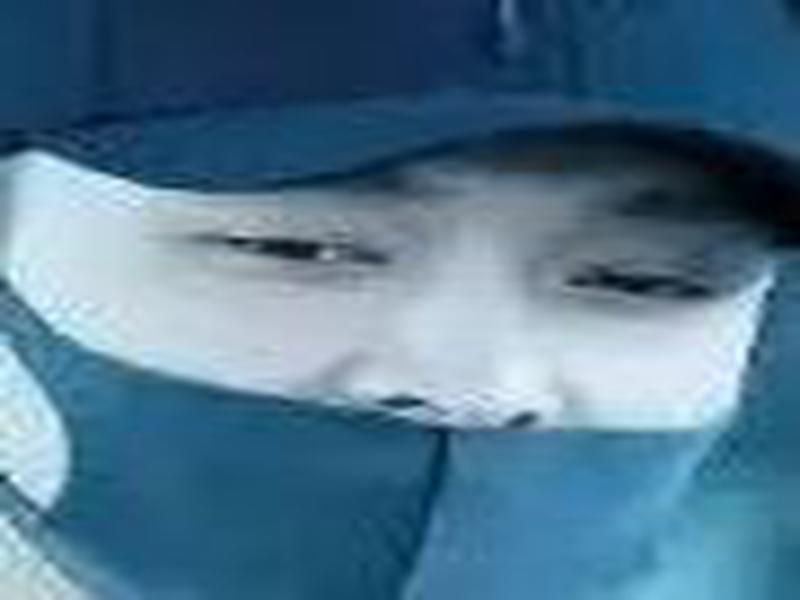with_mask: (1, 141, 783, 600)
